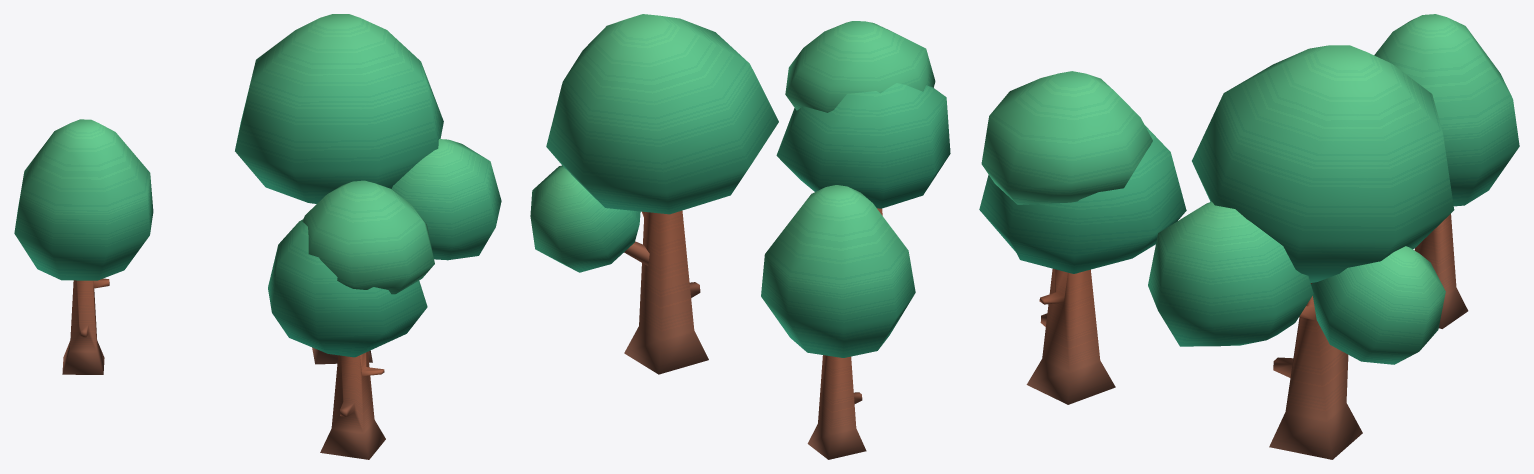
The model's file is tree_spherical_e.glb.
The picture shows the model from 3 angles, left to right: view 1: azimuth 30°, elevation 25°; view 2: azimuth 150°, elevation 25°; view 3: azimuth 270°, elevation 25°; orthographic projection. The views are drawn at different scales.
Parts seen in each view (by area): view 1: tree_spherical__Mesh_005; view 2: tree_spherical__Mesh_005; view 3: tree_spherical__Mesh_005.
Part boxes in pixels (box(x1,y1,x2,y2)): tree_spherical__Mesh_005: box(14, 14, 501, 459); tree_spherical__Mesh_005: box(530, 14, 950, 459); tree_spherical__Mesh_005: box(979, 14, 1519, 459).
Bounding box in the file's own units: 2.35 × 1.86 × 2.32.
1 material, 1 textured.
